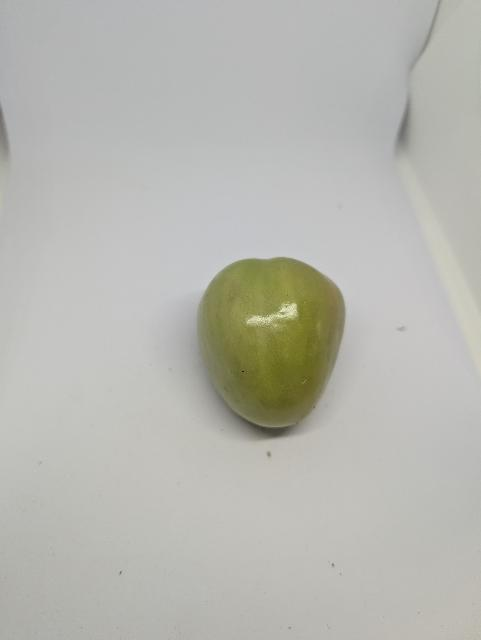green: (197, 254, 348, 431)
